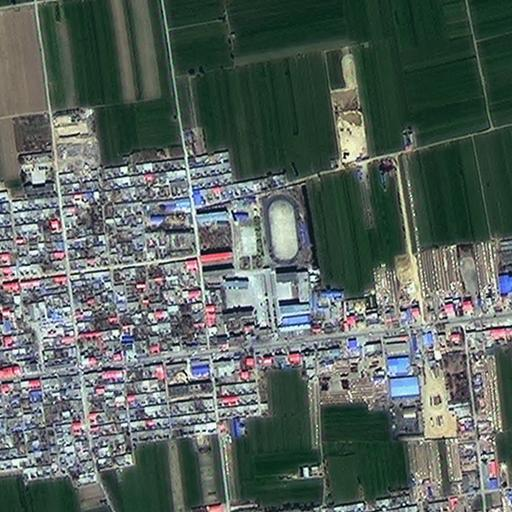school: (196, 182, 314, 338)
